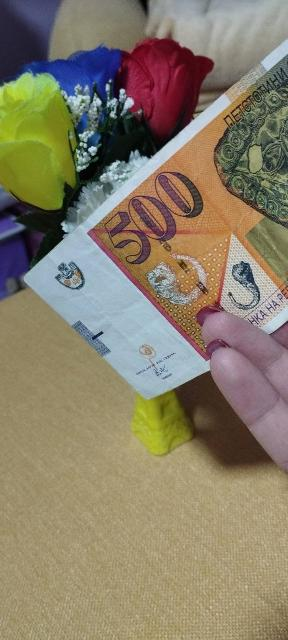500_note: (24, 44, 287, 397)
